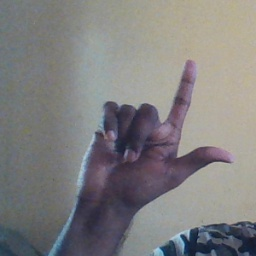L: (76, 58, 235, 206)
